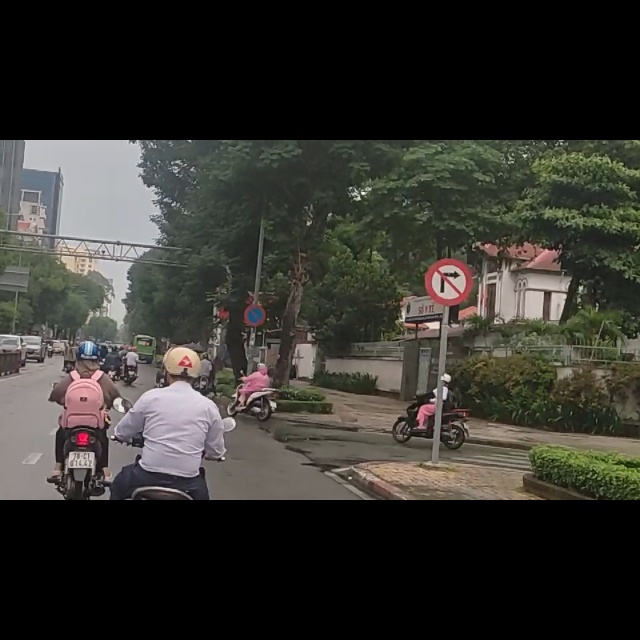bien_cam: (423, 212, 473, 296), (243, 290, 266, 332)
